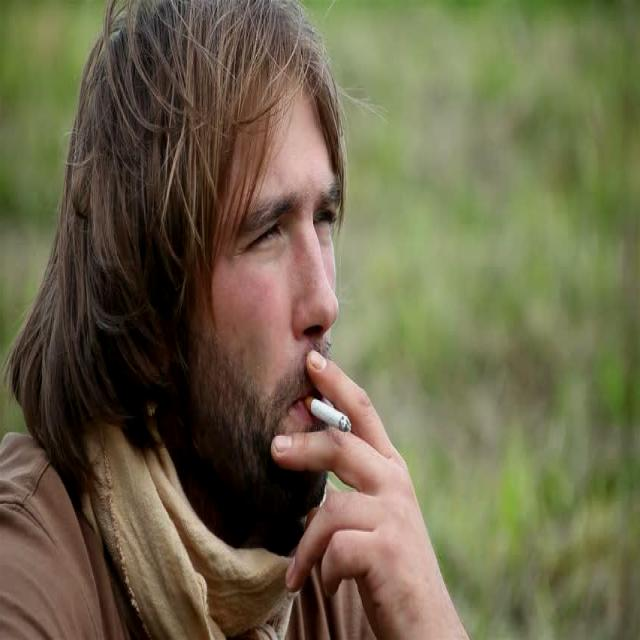smoke: (285, 354, 375, 462)
